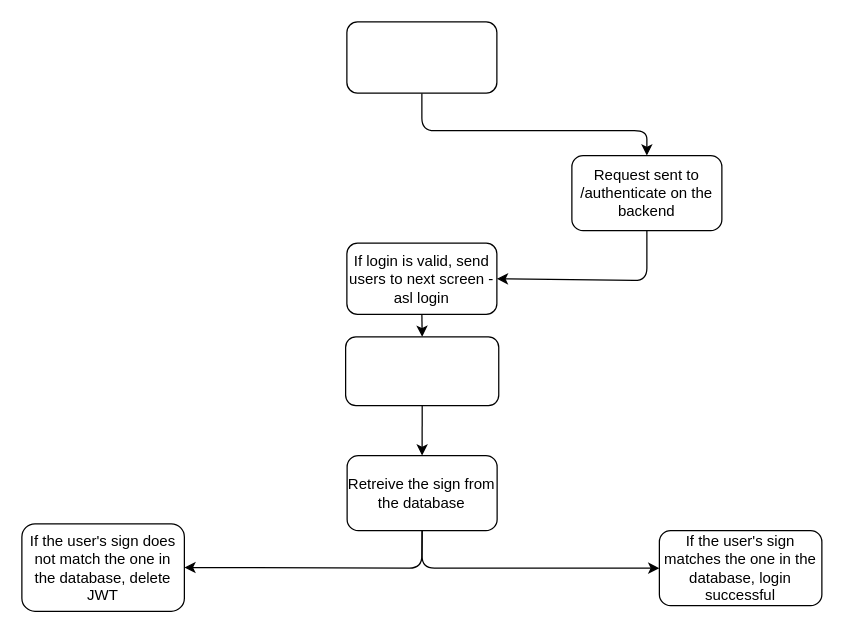
This 844x634 diagram has some shape labels left out. The centre of each missing label's shape, as x and y in pixels:
"Users login to their acount with email and password" goes at point 421,57.
"Using the newly created JWT, send request to backend" goes at point 421,371.
